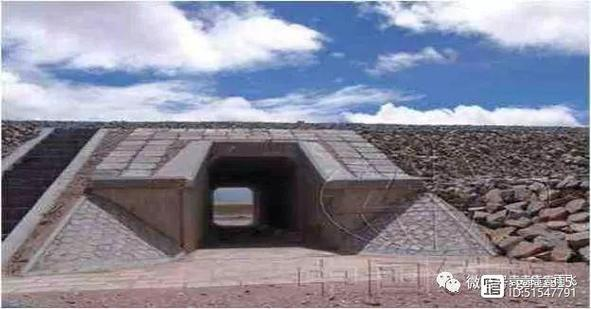tunnel_entrance: (202, 155, 299, 243)
